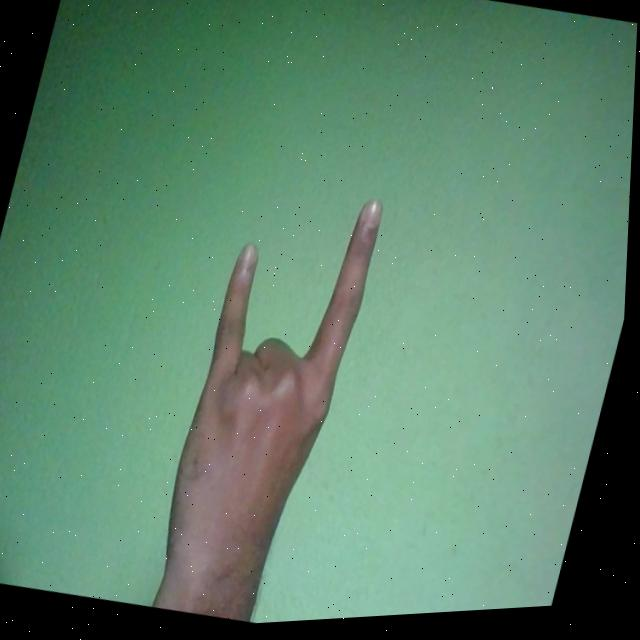Rock On: (148, 174, 391, 631)
